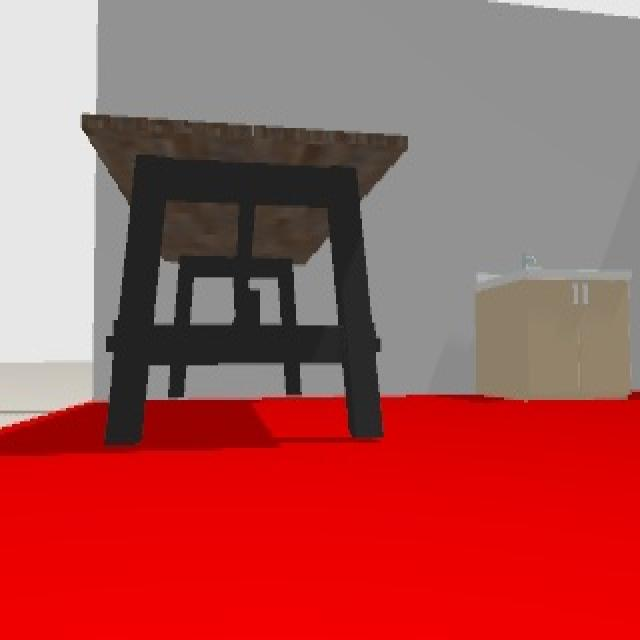dining: (79, 112, 408, 444)
